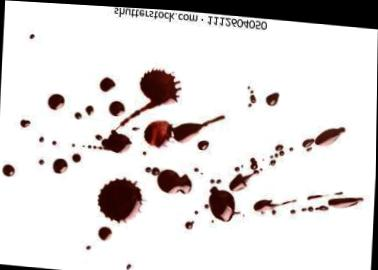Fire: (102, 98, 160, 151), (145, 113, 225, 145), (99, 176, 143, 219), (140, 67, 181, 102), (210, 184, 241, 218), (303, 123, 346, 147), (230, 155, 259, 186), (159, 167, 193, 192), (255, 196, 297, 210), (329, 194, 365, 204), (271, 141, 285, 162), (186, 207, 199, 227), (109, 100, 125, 114), (247, 82, 257, 104), (49, 94, 64, 108), (100, 76, 115, 89), (84, 243, 101, 253), (54, 158, 66, 172), (99, 226, 112, 238), (267, 89, 278, 101), (67, 141, 87, 147), (4, 165, 15, 175), (146, 165, 159, 173), (85, 104, 94, 114), (88, 143, 104, 148), (20, 119, 30, 126), (51, 139, 61, 146), (73, 154, 80, 161), (316, 202, 327, 206), (38, 135, 44, 142), (75, 112, 81, 118), (96, 133, 103, 138), (303, 204, 314, 207), (38, 159, 44, 164), (205, 201, 210, 207), (29, 34, 34, 38), (128, 263, 132, 268)
